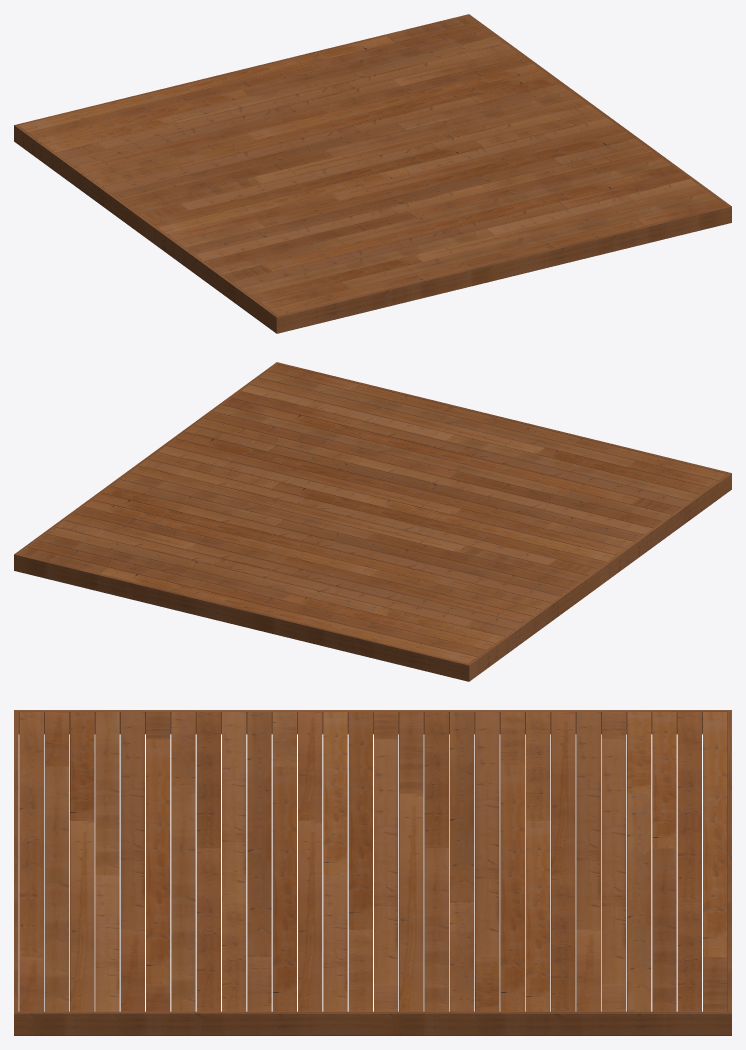
3 renders of one model, top to bottom at view 1: azimuth 30°, elevation 25°; view 2: azimuth 150°, elevation 25°; view 3: azimuth 270°, elevation 25°, orthographic. The views are drawn at different scales.
Visible parts, largest first — view 1: planks, object 3, object 4, object 1, object 2; view 2: planks, object 1, object 4, object 3, object 2; view 3: planks, object 2, object 4, object 1, object 3.
Part boxes in pixels (x1,y1,x2,y2): planks: (19, 16, 726, 315); object 3: (276, 206, 731, 333); object 4: (14, 125, 277, 333); object 1: (14, 14, 468, 125); object 2: (468, 14, 731, 206); planks: (19, 364, 726, 663); object 1: (14, 554, 469, 681); object 4: (468, 473, 731, 681); object 3: (277, 362, 731, 473); object 2: (14, 362, 277, 554); planks: (19, 712, 727, 1011); object 2: (14, 1011, 731, 1035); object 4: (14, 710, 731, 734); object 1: (727, 710, 731, 1013); object 3: (14, 710, 18, 1013).
Size of the model in its own units: 4.25 by 0.1471 by 4.25.
Materials: 56 (56 with a texture image).
